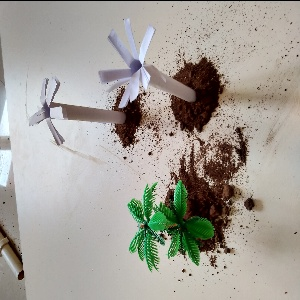plant: (122, 183, 216, 271)
weed: (95, 20, 205, 114), (22, 76, 129, 150)
